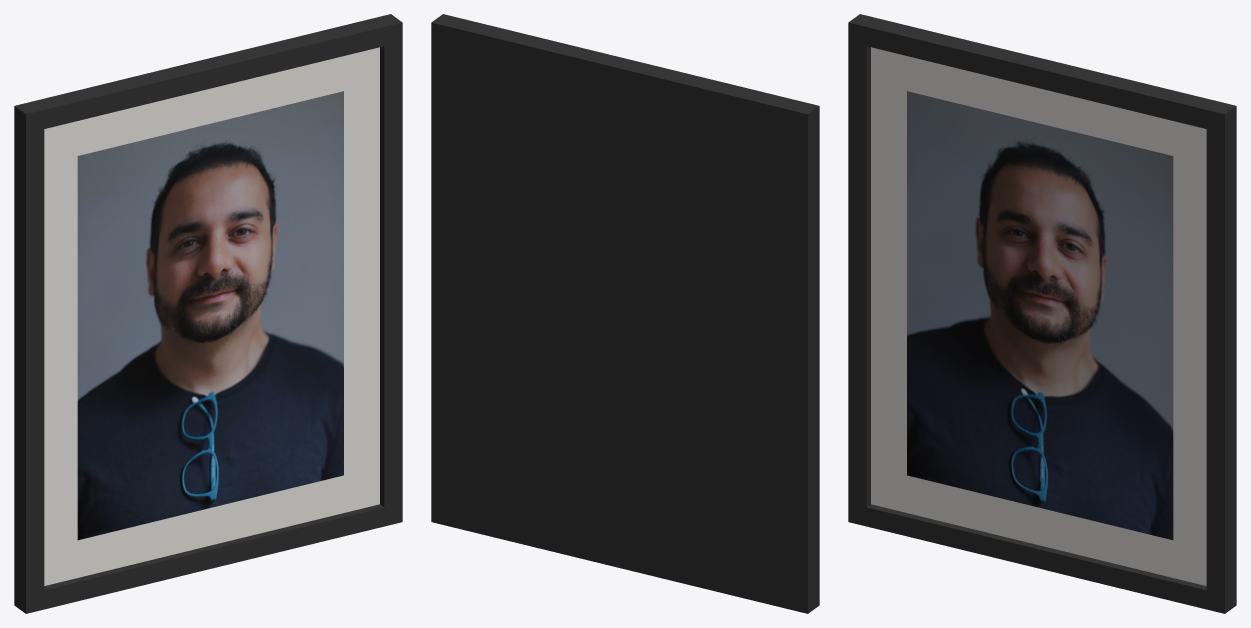
Rendered from glasogonen-40.gltf.
The picture shows the model from 3 angles, left to right: view 1: azimuth 30°, elevation 25°; view 2: azimuth 150°, elevation 25°; view 3: azimuth 330°, elevation 25°; orthographic projection.
Parts seen in each view (by area): view 1: tavla; view 2: tavla; view 3: tavla.
Boxes of the visible parts, x1,y1,x2,y2 form: tavla: [14, 14, 402, 613]; tavla: [431, 14, 819, 613]; tavla: [848, 14, 1236, 613].
Bounding box in the file's own units: 0.4102 × 0.52 × 0.022.
3 materials, 1 textured.
